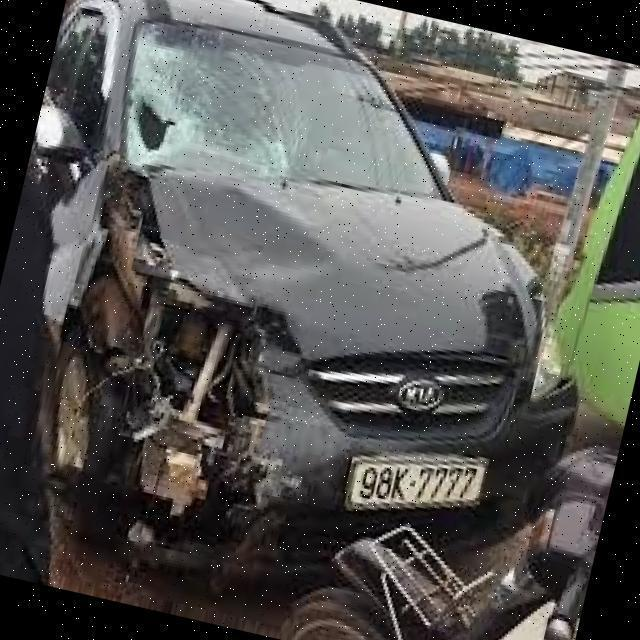accident: (0, 0, 509, 627)
